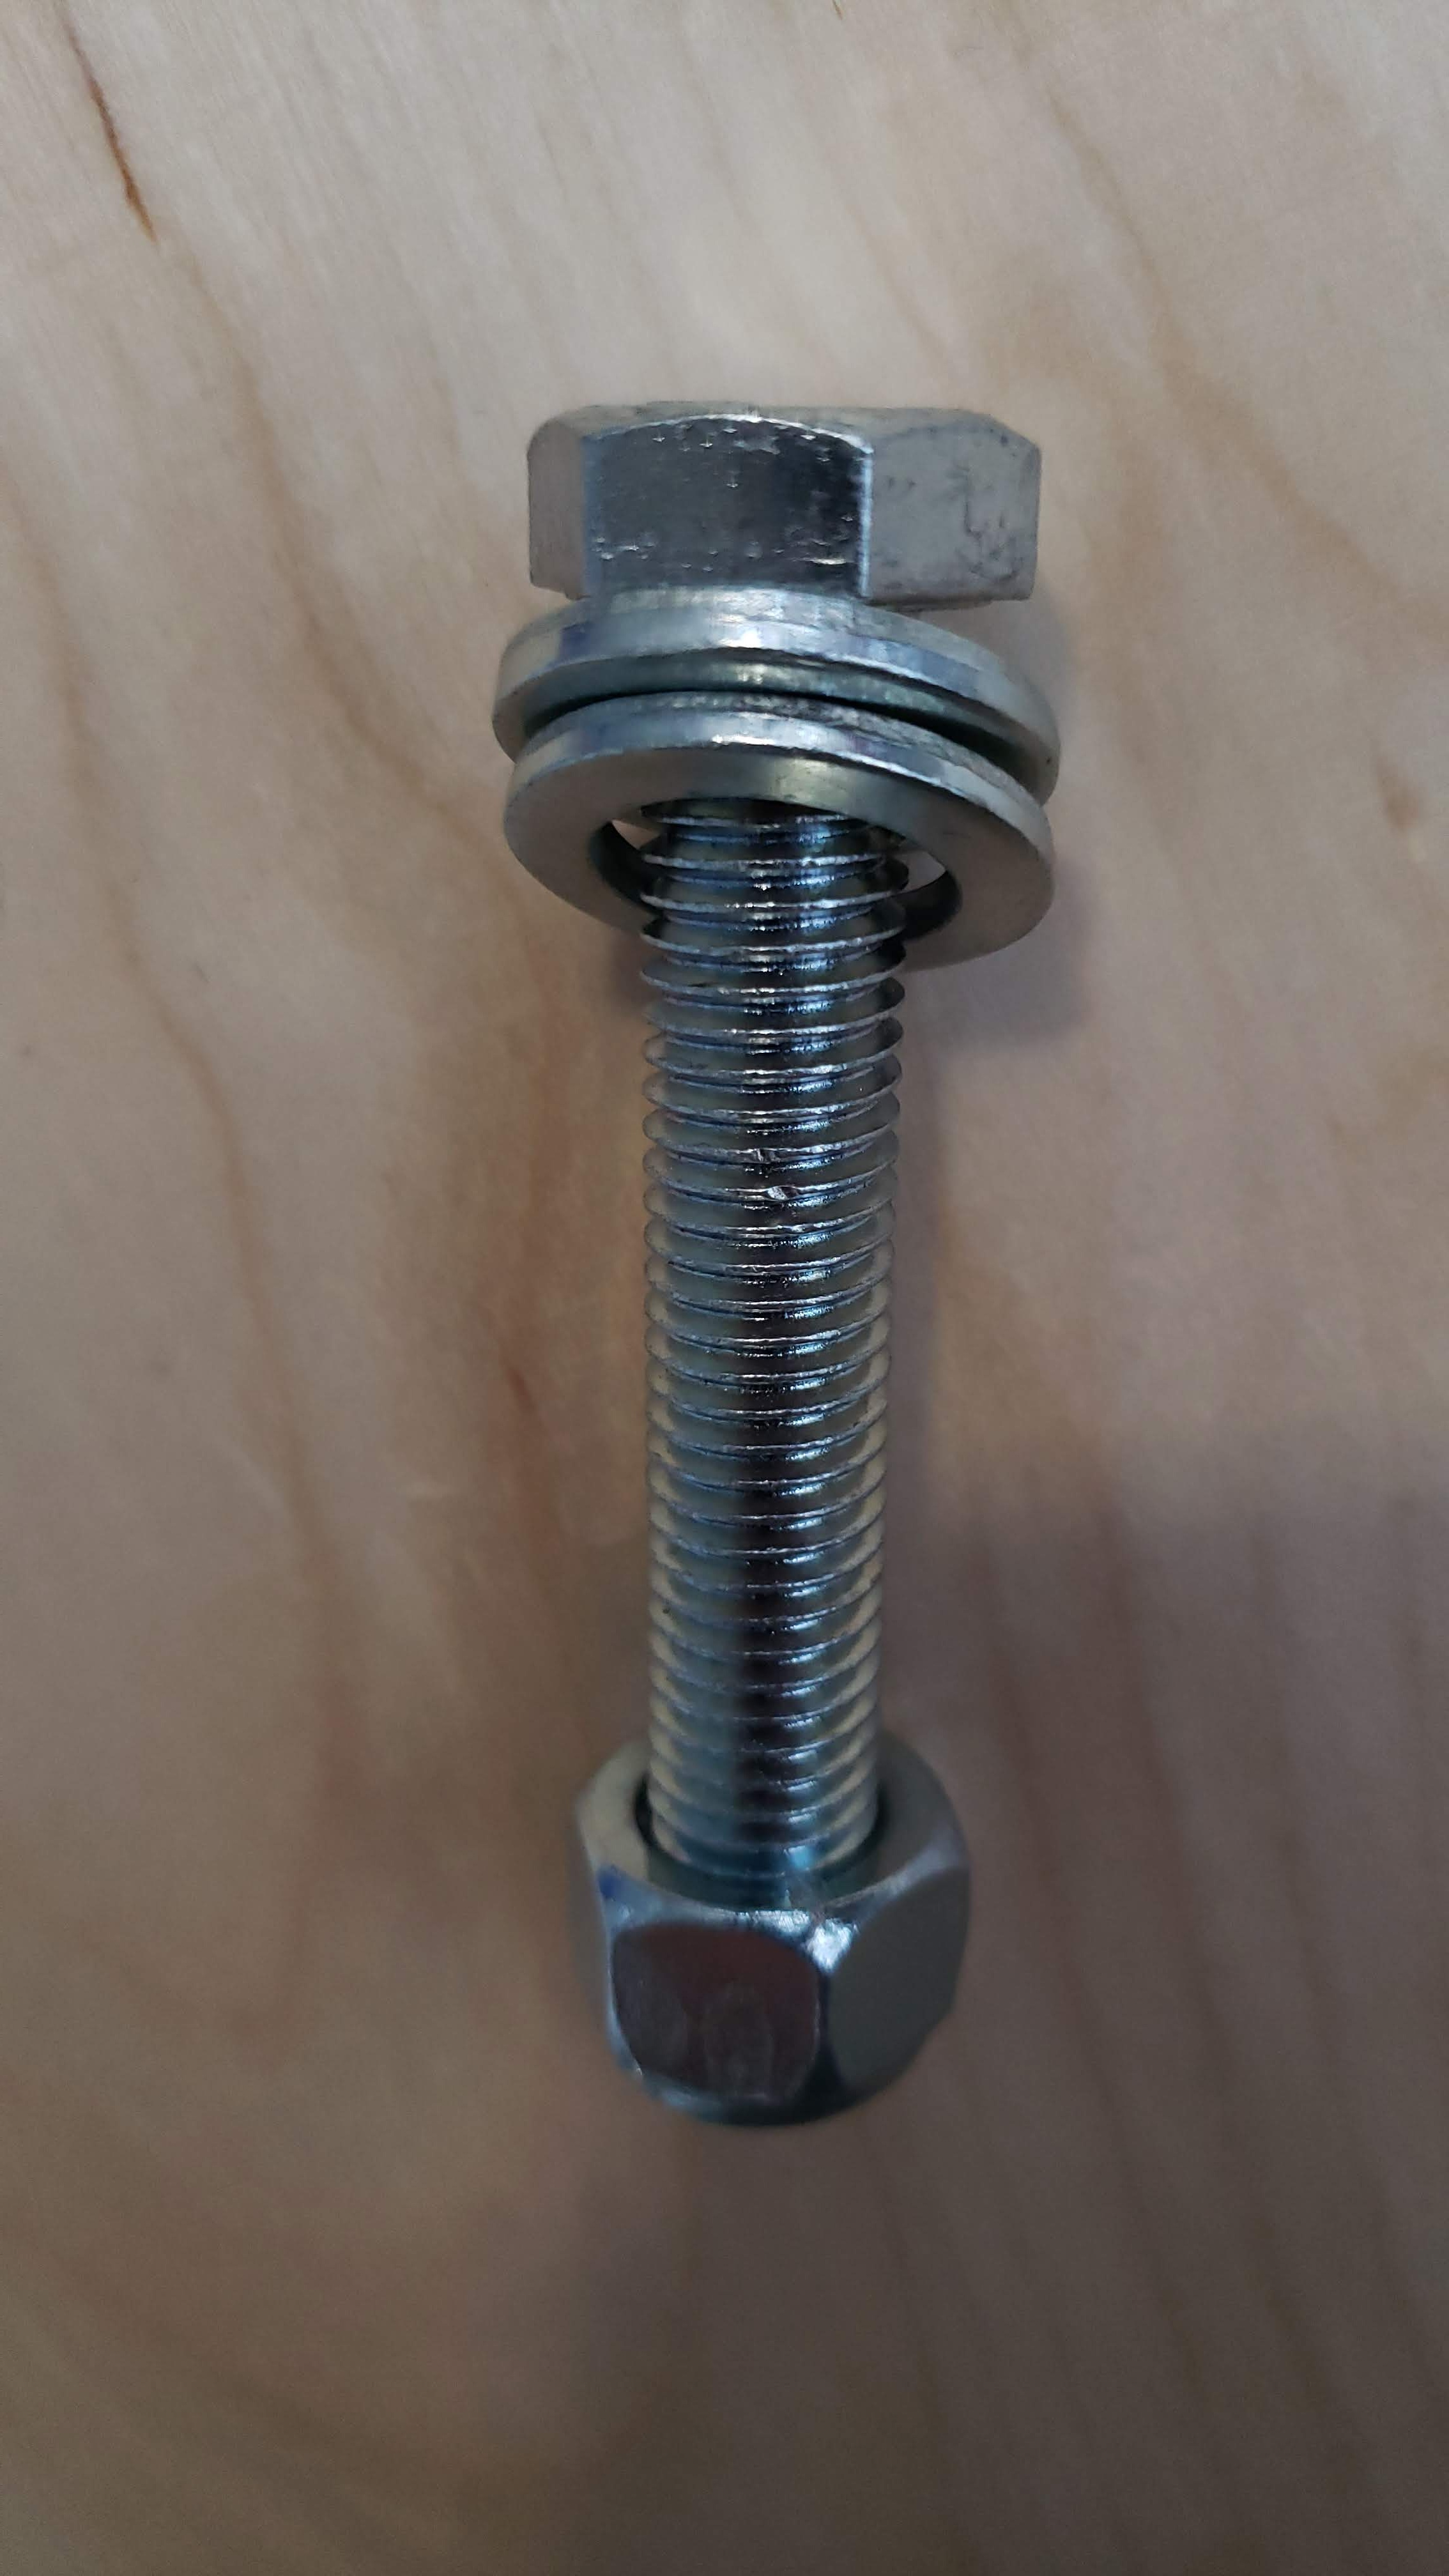FinishedAssembly: (278, 269, 1258, 2335)
